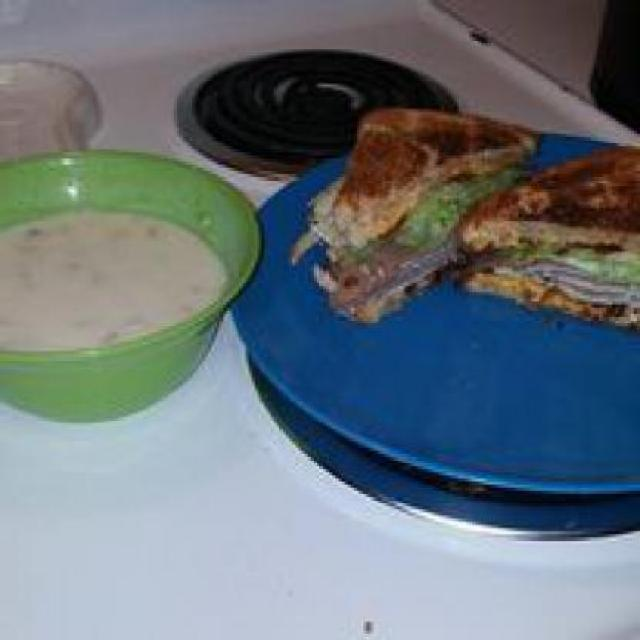clam chowder: (3, 170, 240, 385)
